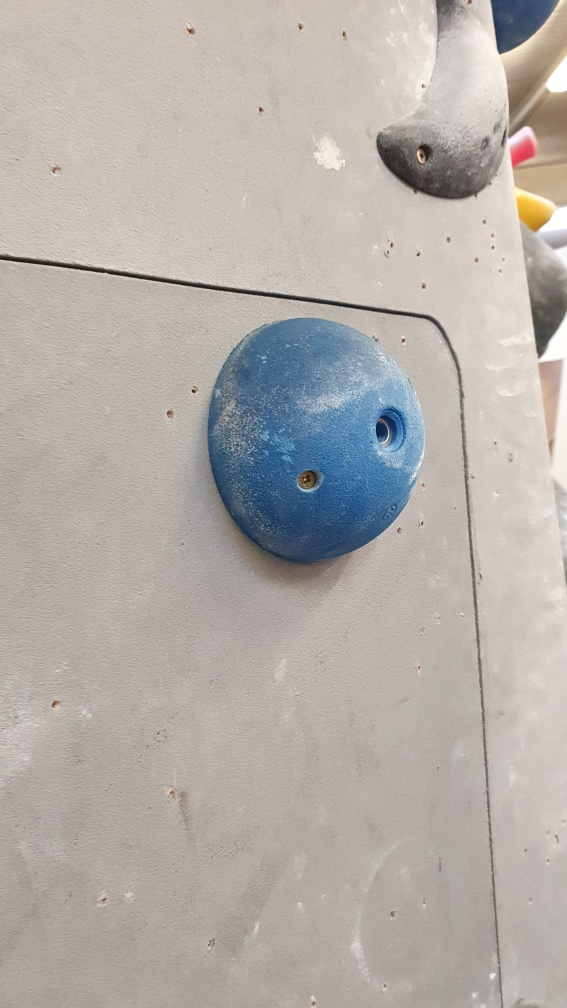Sloper: (203, 315, 426, 567)
